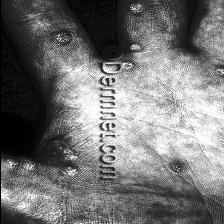Toxin: (0, 138, 86, 183), (124, 37, 142, 75), (161, 155, 189, 173), (51, 28, 72, 48), (125, 0, 143, 15), (208, 66, 224, 73)
